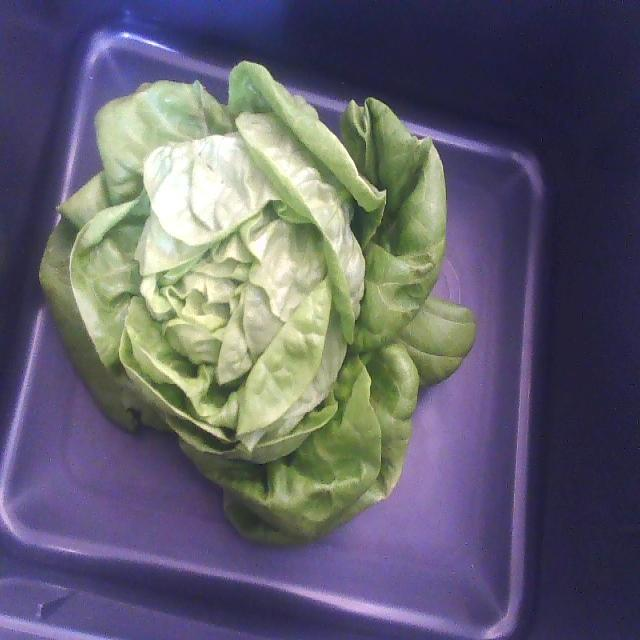Lettuce-plant: (40, 61, 474, 544)
